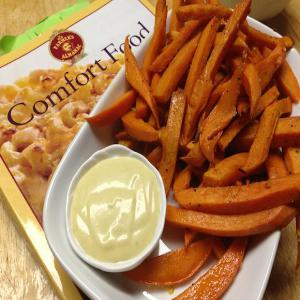fries_350cal: (131, 5, 299, 180)
